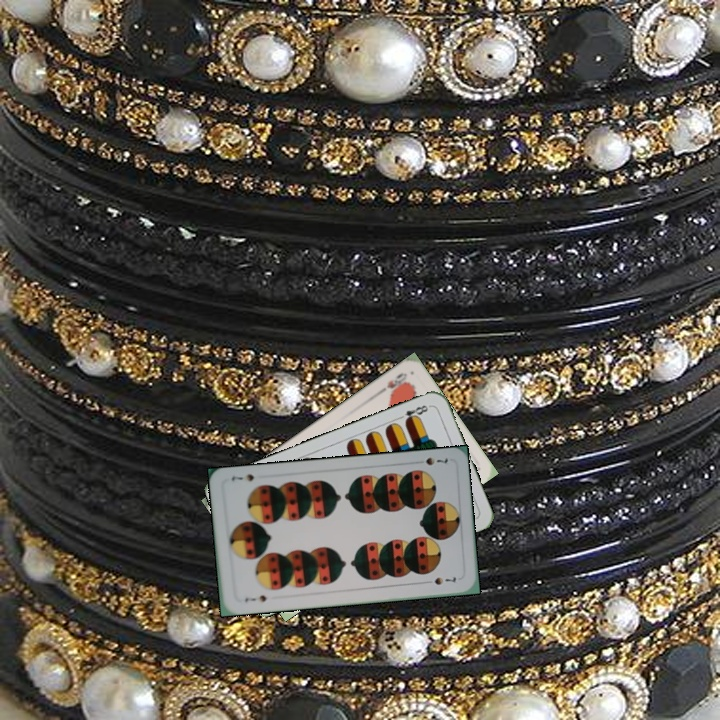E8: (394, 401, 433, 426)
HO: (374, 368, 410, 397)
S7: (411, 453, 450, 468), (241, 591, 269, 604)
